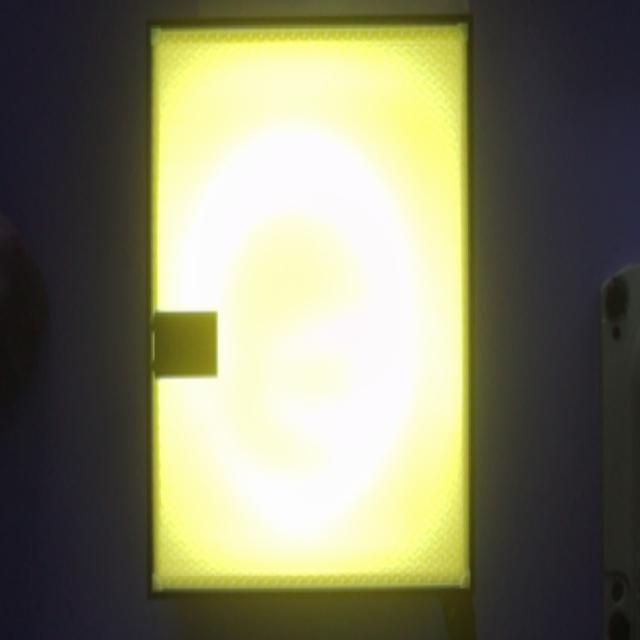bateria: (150, 309, 218, 380)
mesa: (146, 16, 476, 600)
